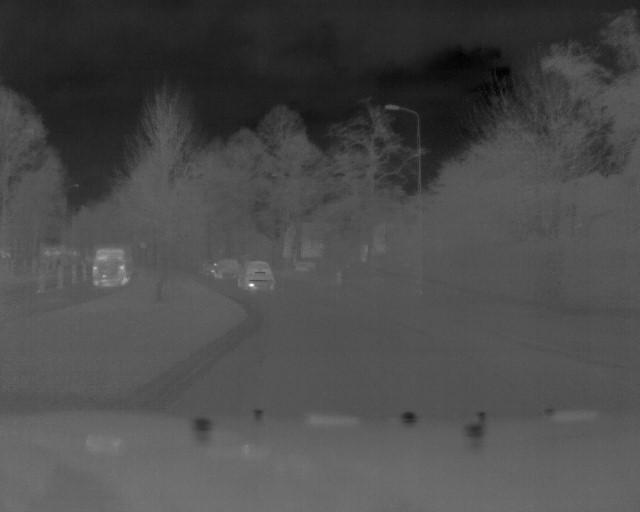car: (88, 242, 133, 289), (236, 260, 278, 293)
